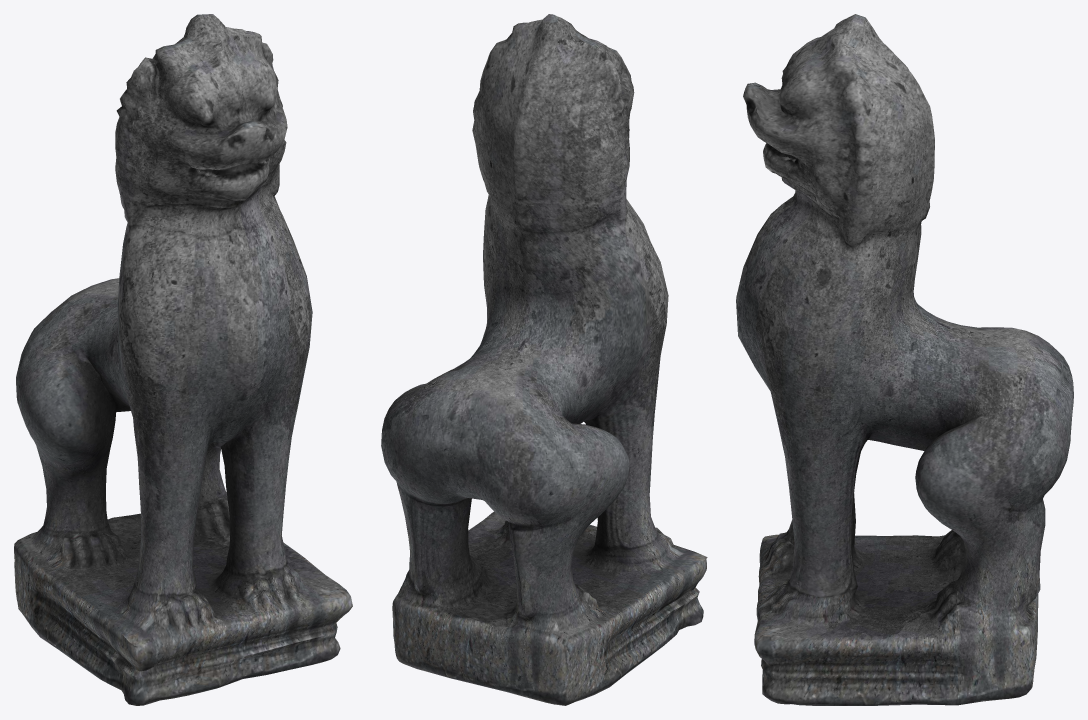
Rendered from Temple Guardian.fbx.
3 renders of one model, left to right at view 1: azimuth 30°, elevation 25°; view 2: azimuth 150°, elevation 25°; view 3: azimuth 270°, elevation 25°, orthographic. The views are drawn at different scales.
Visible parts, largest first — view 1: LR01; view 2: LR01; view 3: LR01.
Boxes of the visible parts, box(x1,y1,x2,y2) form: LR01: box(14, 14, 352, 705); LR01: box(381, 14, 707, 705); LR01: box(736, 14, 1073, 705).
Size of the model in its own units: 37.69 by 96.94 by 46.1.
